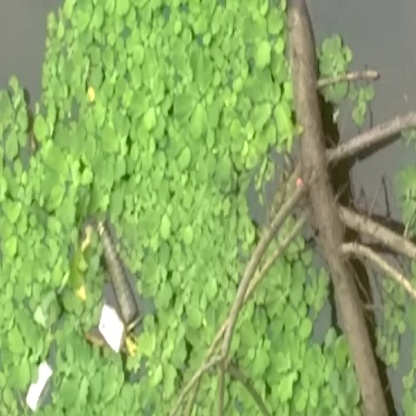branch: (280, 4, 391, 416)
